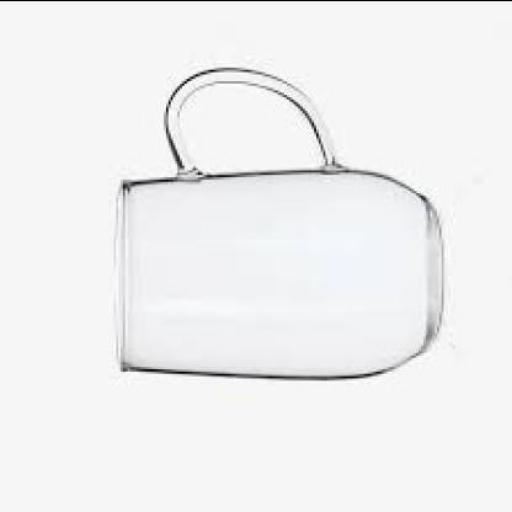glass: (119, 71, 439, 379)
